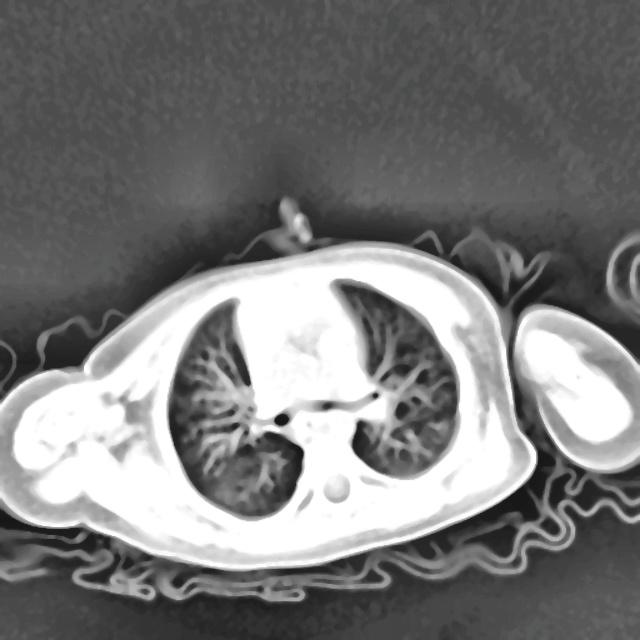covid: (0, 227, 540, 572)
